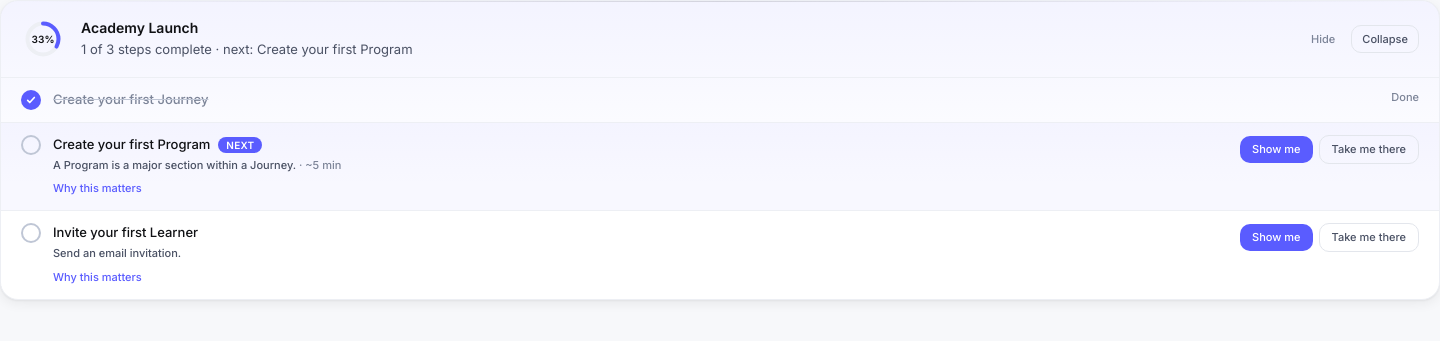
Academy Launch checklist › 'Why this matters' expands on demand
Expected: the text "versioned" is not shown
What coordinates should you click on to do the following:
click the button "Why this matters" below "min"
I would click on:
 (97, 189)
Its box is [53,181,142,196].
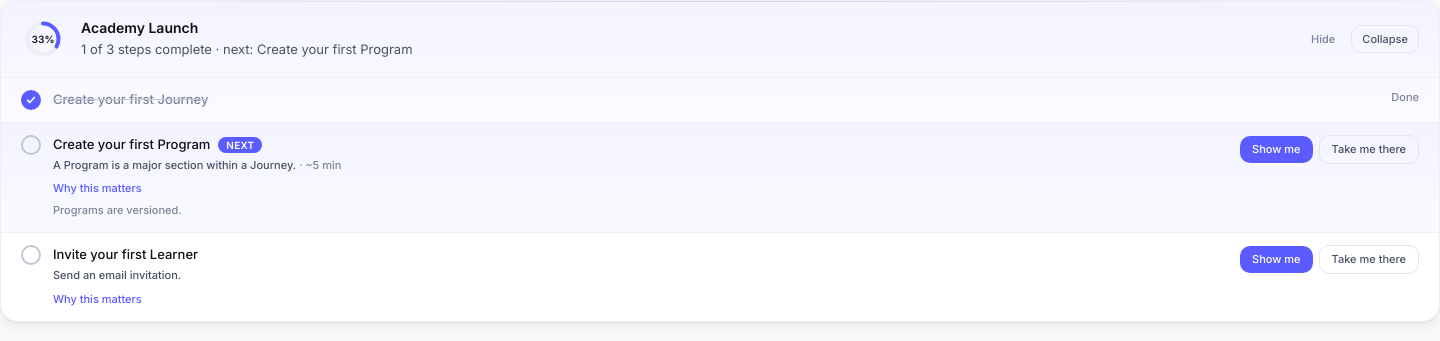
Result: the text "Programs are versioned." is shown at [53,203,182,217]
